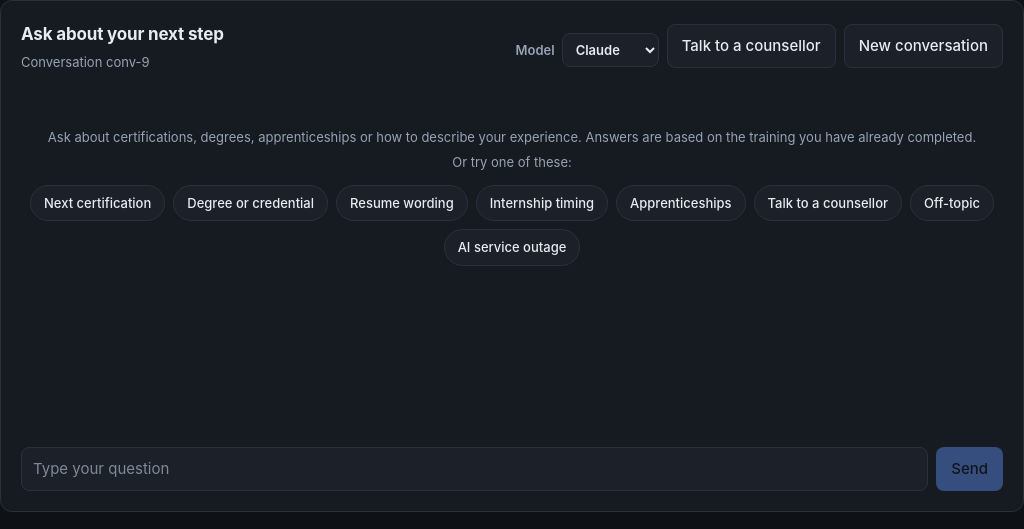
Test case: CustomerChat › lets the member pick a model and sends the choice with the message
Select "ChatGPT" in the dropdown named "AI model" at (610, 50), box [562, 33, 659, 67]
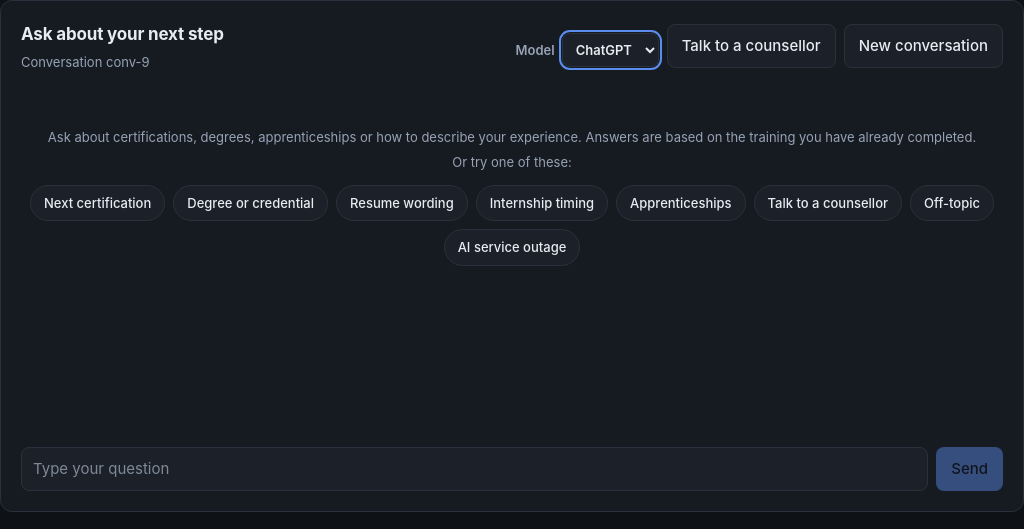
Type "Which certification next?" into the field named "Message" at (475, 469), box [21, 447, 928, 491]
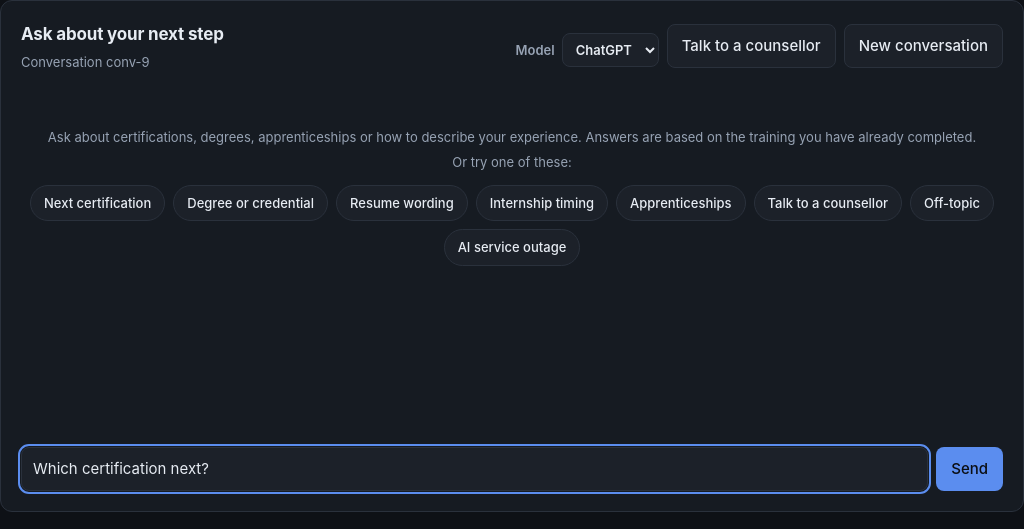
Click the button "Send" at (970, 469), box [936, 447, 1003, 491]
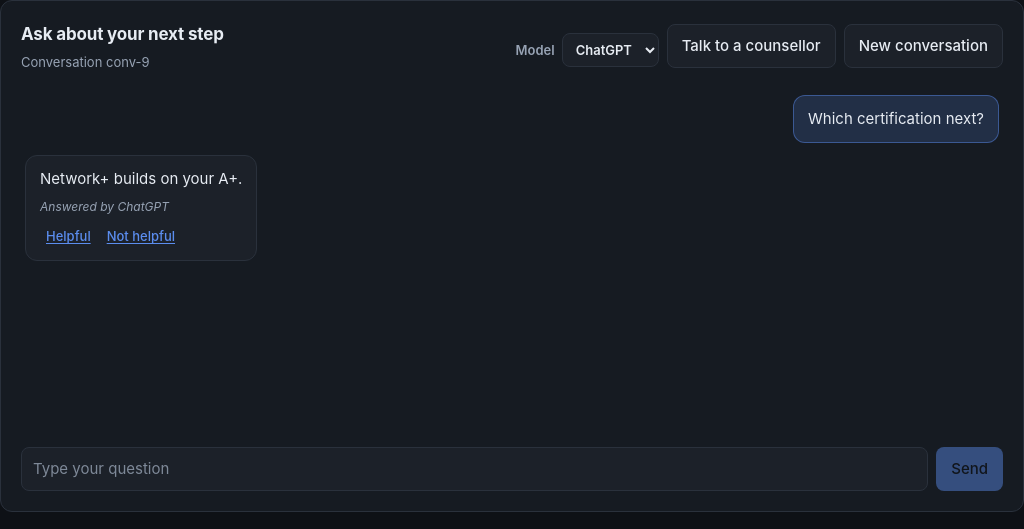
Now the text "Answered by ChatGPT" is shown, box [40, 199, 169, 214]
